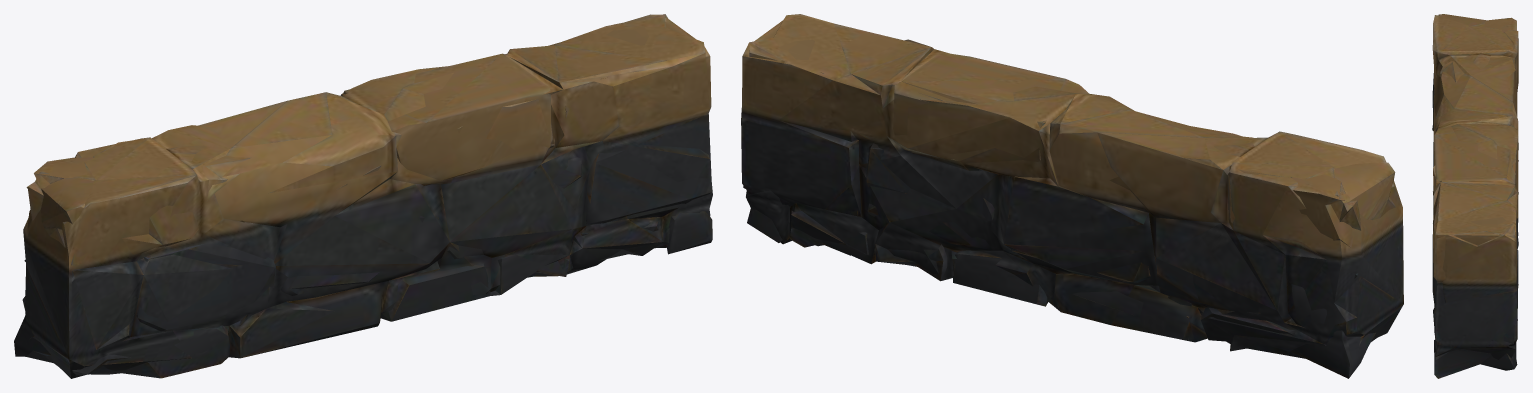
File: stone-wall.lod.glb
3 renders of one model, left to right at view 1: azimuth 30°, elevation 25°; view 2: azimuth 150°, elevation 25°; view 3: azimuth 270°, elevation 25°, orthographic. The views are drawn at different scales.
Visible parts, largest first — view 1: output_unwrapped; view 2: output_unwrapped; view 3: output_unwrapped.
Part boxes in pixels (bbox=[...]): output_unwrapped: bbox=[14, 14, 712, 378]; output_unwrapped: bbox=[741, 14, 1403, 378]; output_unwrapped: bbox=[1432, 14, 1518, 378].
Size of the model in its own units: 1.89 by 0.5545 by 0.2999.
1 material, 1 textured.
